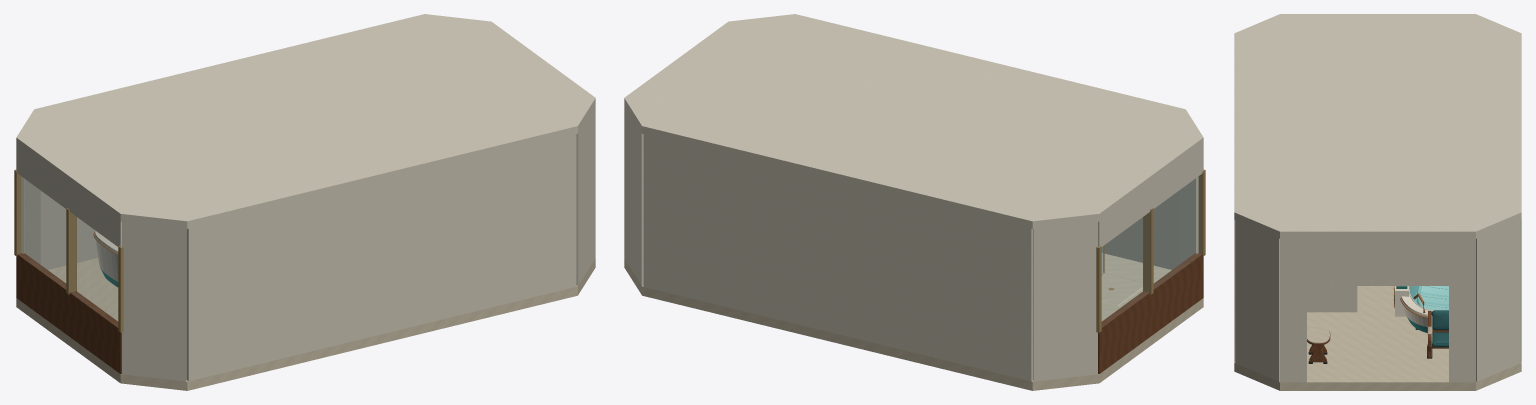
File: D04_STARBOARD_AFT_HOME_993_r001.glb
3 views of the same model, side by side, from view 1: azimuth 30°, elevation 25°; view 2: azimuth 150°, elevation 25°; view 3: azimuth 270°, elevation 25° (orthographic). The views are drawn at different scales.
Parts seen in each view (by area): view 1: SA993_D04H994_Roof, SA993_D04H994_Shell_7, SA993_D04H994_Shell_6, SA993_D04H994_Floor, SA993_D04H994_GardenGlass, SA993_D04H994_GardenDado, SA993_D04H994_Shell_0, SA993_D04H994_GardenHead, SA993_D04H994_Shell_3, SA993_D04H994_Shell_4, SA993_D04H994_WindowMullion_1, SA993_ReservedAquaticRest_2__Hollow continuous basin shell w (+2 smaller); view 2: SA993_D04H994_Roof, SA993_D04H994_Shell_3, SA993_D04H994_Shell_4, SA993_D04H994_Floor, SA993_D04H994_GardenGlass, SA993_D04H994_GardenDado, SA993_D04H994_Shell_2, SA993_D04H994_GardenHead, SA993_D04H994_Shell_7, SA993_D04H994_Shell_6, SA993_Shower__SHW_SlopedTray, SA993_D04H994_WindowMullion_1 (+2 smaller); view 3: SA993_D04H994_Roof, SA993_D04H994_Floor, SA993_D04H994_EntryHeader, SA993_D04H994_Shell_0, SA993_D04H994_Shell_2, SA993_D04H994_EntryWall_0, SA993_D04H994_EntryWall_1, SA993_D04H994_BathDogleg, SA993_ReservedAquaticRest_1__WaterSurface_VisualOnly, SA993_ReservedAquaticRest_1__Hollow continuous basin shell w, SA993_ReservedAquaticRest_1__Contoured broad immersed rest s, SA993_DryTransferChair__DAY_CHAIR_single_reclined_back_cushi (+5 smaller).
Boxes of the visible parts, x1=… form: SA993_D04H994_Roof: x1=16, y1=14, x2=595, y2=228; SA993_D04H994_Shell_7: x1=186, y1=134, x2=576, y2=381; SA993_D04H994_Shell_6: x1=122, y1=221, x2=186, y2=381; SA993_D04H994_Floor: x1=16, y1=258, x2=595, y2=390; SA993_D04H994_GardenGlass: x1=18, y1=179, x2=117, y2=326; SA993_D04H994_GardenDado: x1=16, y1=253, x2=121, y2=373; SA993_D04H994_Shell_0: x1=576, y1=107, x2=595, y2=285; SA993_D04H994_GardenHead: x1=16, y1=145, x2=121, y2=246; SA993_D04H994_Shell_3: x1=40, y1=191, x2=98, y2=269; SA993_D04H994_Shell_4: x1=21, y1=176, x2=40, y2=264; SA993_D04H994_WindowMullion_1: x1=66, y1=208, x2=76, y2=294; SA993_ReservedAquaticRest_2__Hollow continuous basin shell w: x1=94, y1=230, x2=118, y2=287; SA993_D04H994_Roof: x1=624, y1=14, x2=1203, y2=228; SA993_D04H994_Shell_3: x1=643, y1=134, x2=1033, y2=381; SA993_D04H994_Shell_4: x1=1033, y1=221, x2=1097, y2=381; SA993_D04H994_Floor: x1=624, y1=253, x2=1203, y2=390; SA993_D04H994_GardenGlass: x1=1102, y1=179, x2=1201, y2=326; SA993_D04H994_GardenDado: x1=1098, y1=253, x2=1203, y2=373; SA993_D04H994_Shell_2: x1=624, y1=106, x2=643, y2=285; SA993_D04H994_GardenHead: x1=1098, y1=145, x2=1203, y2=246; SA993_D04H994_Shell_7: x1=1102, y1=191, x2=1179, y2=269; SA993_D04H994_Shell_6: x1=1179, y1=176, x2=1198, y2=264; SA993_Shower__SHW_SlopedTray: x1=1101, y1=273, x2=1142, y2=306; SA993_D04H994_WindowMullion_1: x1=1143, y1=208, x2=1153, y2=294; SA993_D04H994_Roof: x1=1234, y1=14, x2=1521, y2=238; SA993_D04H994_Floor: x1=1234, y1=286, x2=1521, y2=390; SA993_D04H994_EntryHeader: x1=1307, y1=239, x2=1448, y2=285; SA993_D04H994_Shell_0: x1=1235, y1=220, x2=1279, y2=381; SA993_D04H994_Shell_2: x1=1476, y1=220, x2=1520, y2=381; SA993_D04H994_EntryWall_0: x1=1280, y1=239, x2=1306, y2=382; SA993_D04H994_EntryWall_1: x1=1449, y1=239, x2=1475, y2=382; SA993_D04H994_BathDogleg: x1=1307, y1=286, x2=1357, y2=312; SA993_ReservedAquaticRest_1__WaterSurface_VisualOnly: x1=1410, y1=286, x2=1448, y2=310; SA993_ReservedAquaticRest_1__Hollow continuous basin shell w: x1=1401, y1=286, x2=1431, y2=332; SA993_ReservedAquaticRest_1__Contoured broad immersed rest s: x1=1416, y1=286, x2=1448, y2=310; SA993_DryTransferChair__DAY_CHAIR_single_reclined_back_cushi: x1=1431, y1=310, x2=1448, y2=330.
Size of the model in its own units: 12.93 by 4.4 by 7.2.
Materials: 51 (21 with a texture image).
